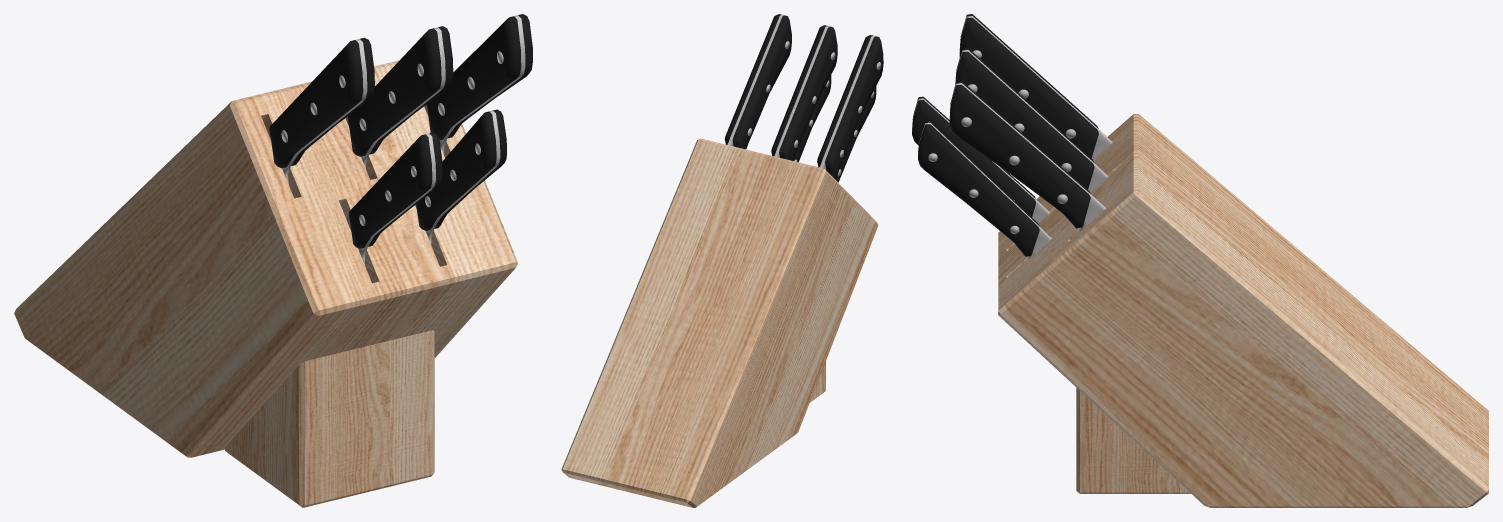
The model's file is fit-knife-block.glb.
3 views of the same model, side by side, from view 1: azimuth 30°, elevation 25°; view 2: azimuth 150°, elevation 25°; view 3: azimuth 270°, elevation 25° (orthographic). The views are drawn at different scales.
Bounding box in the file's own units: 9.04 × 21.91 × 27.14.
3 materials, 2 textured.
